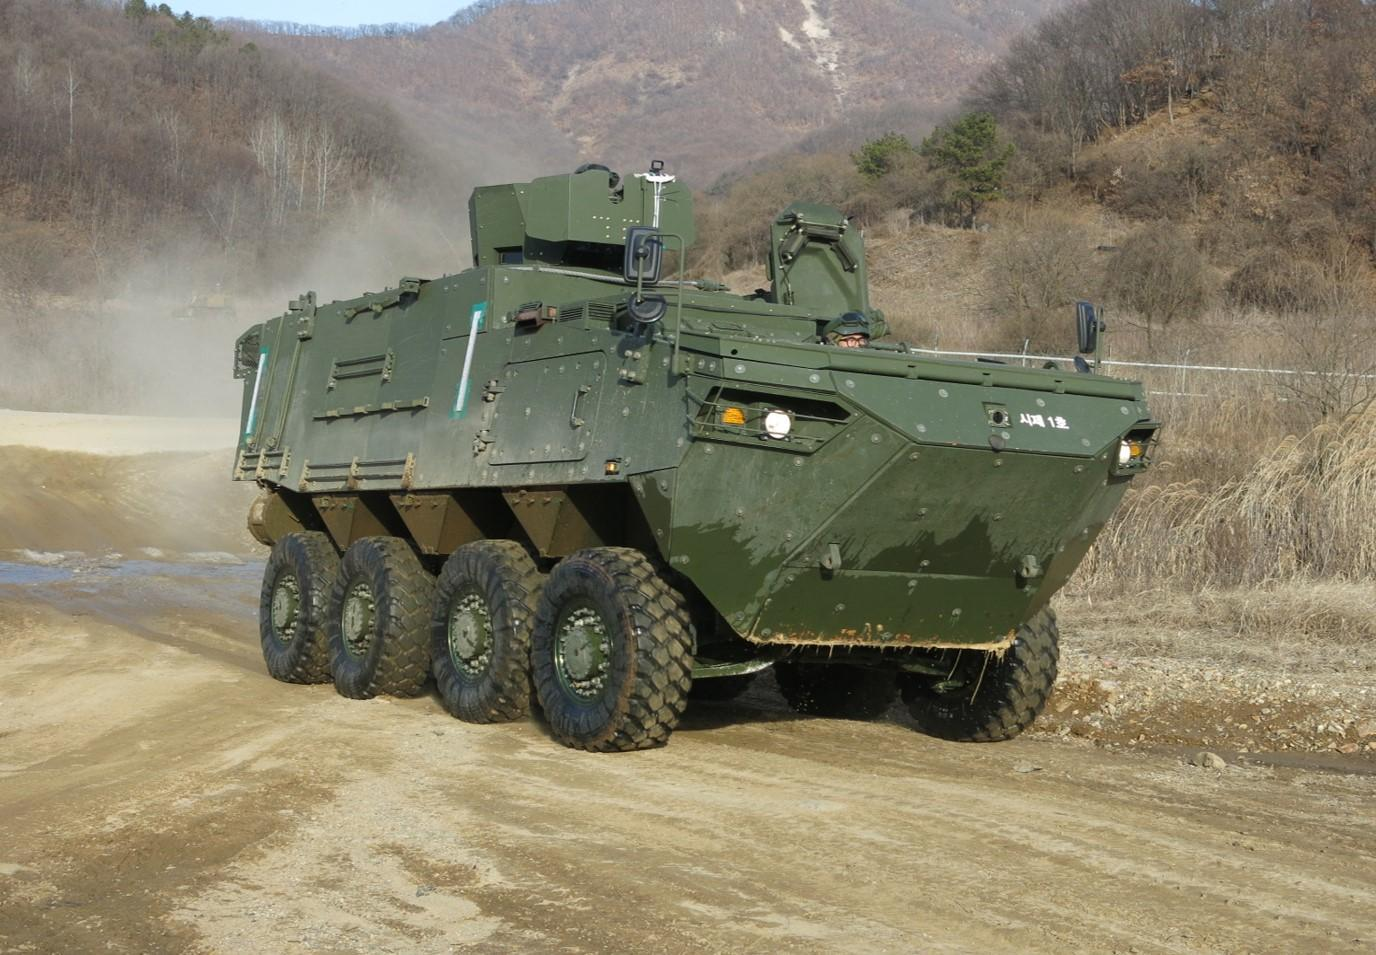MIL_IFV: (228, 156, 1152, 753)
